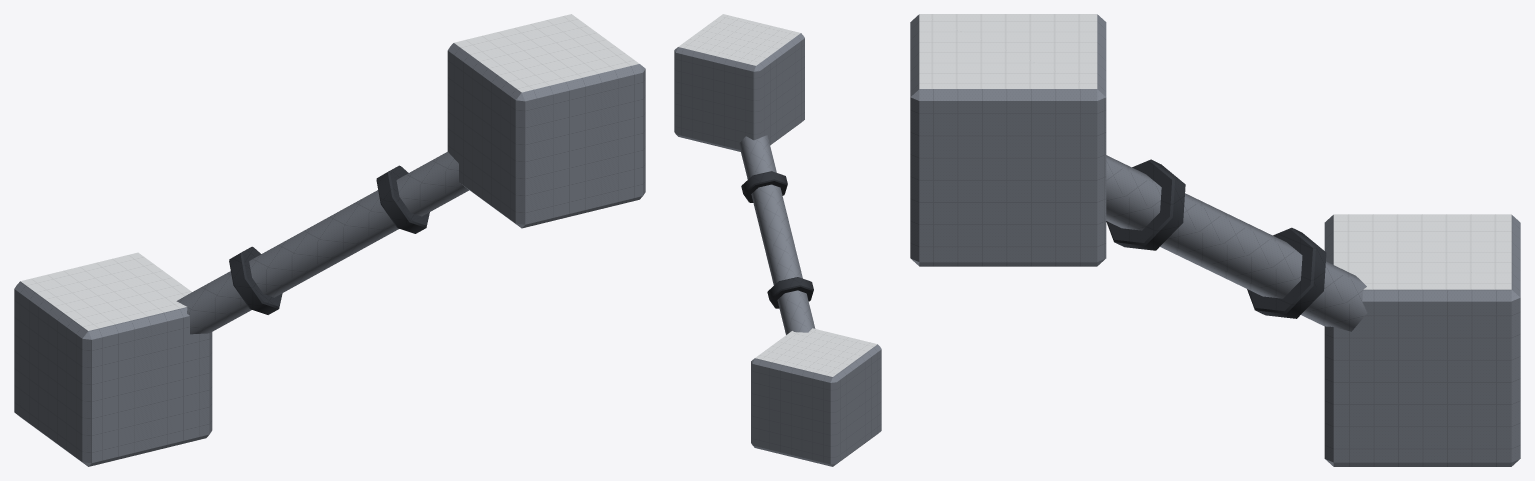
Rendered from R4C_STRUT_DIAG_3D_LOD1.glb.
3 views of the same model, side by side, from view 1: azimuth 30°, elevation 25°; view 2: azimuth 150°, elevation 25°; view 3: azimuth 270°, elevation 25° (orthographic). The views are drawn at different scales.
Visible parts, largest first — view 1: R4C_STRUT_DIAG_3D_LOD1; view 2: R4C_STRUT_DIAG_3D_LOD1; view 3: R4C_STRUT_DIAG_3D_LOD1.
Boxes of the visible parts, x1,y1,x2,y2 form: R4C_STRUT_DIAG_3D_LOD1: (14, 14, 645, 466); R4C_STRUT_DIAG_3D_LOD1: (674, 14, 881, 466); R4C_STRUT_DIAG_3D_LOD1: (910, 14, 1520, 466).
Size of the model in its own units: 1.62 by 1.62 by 1.62.
3 materials, 3 textured.
